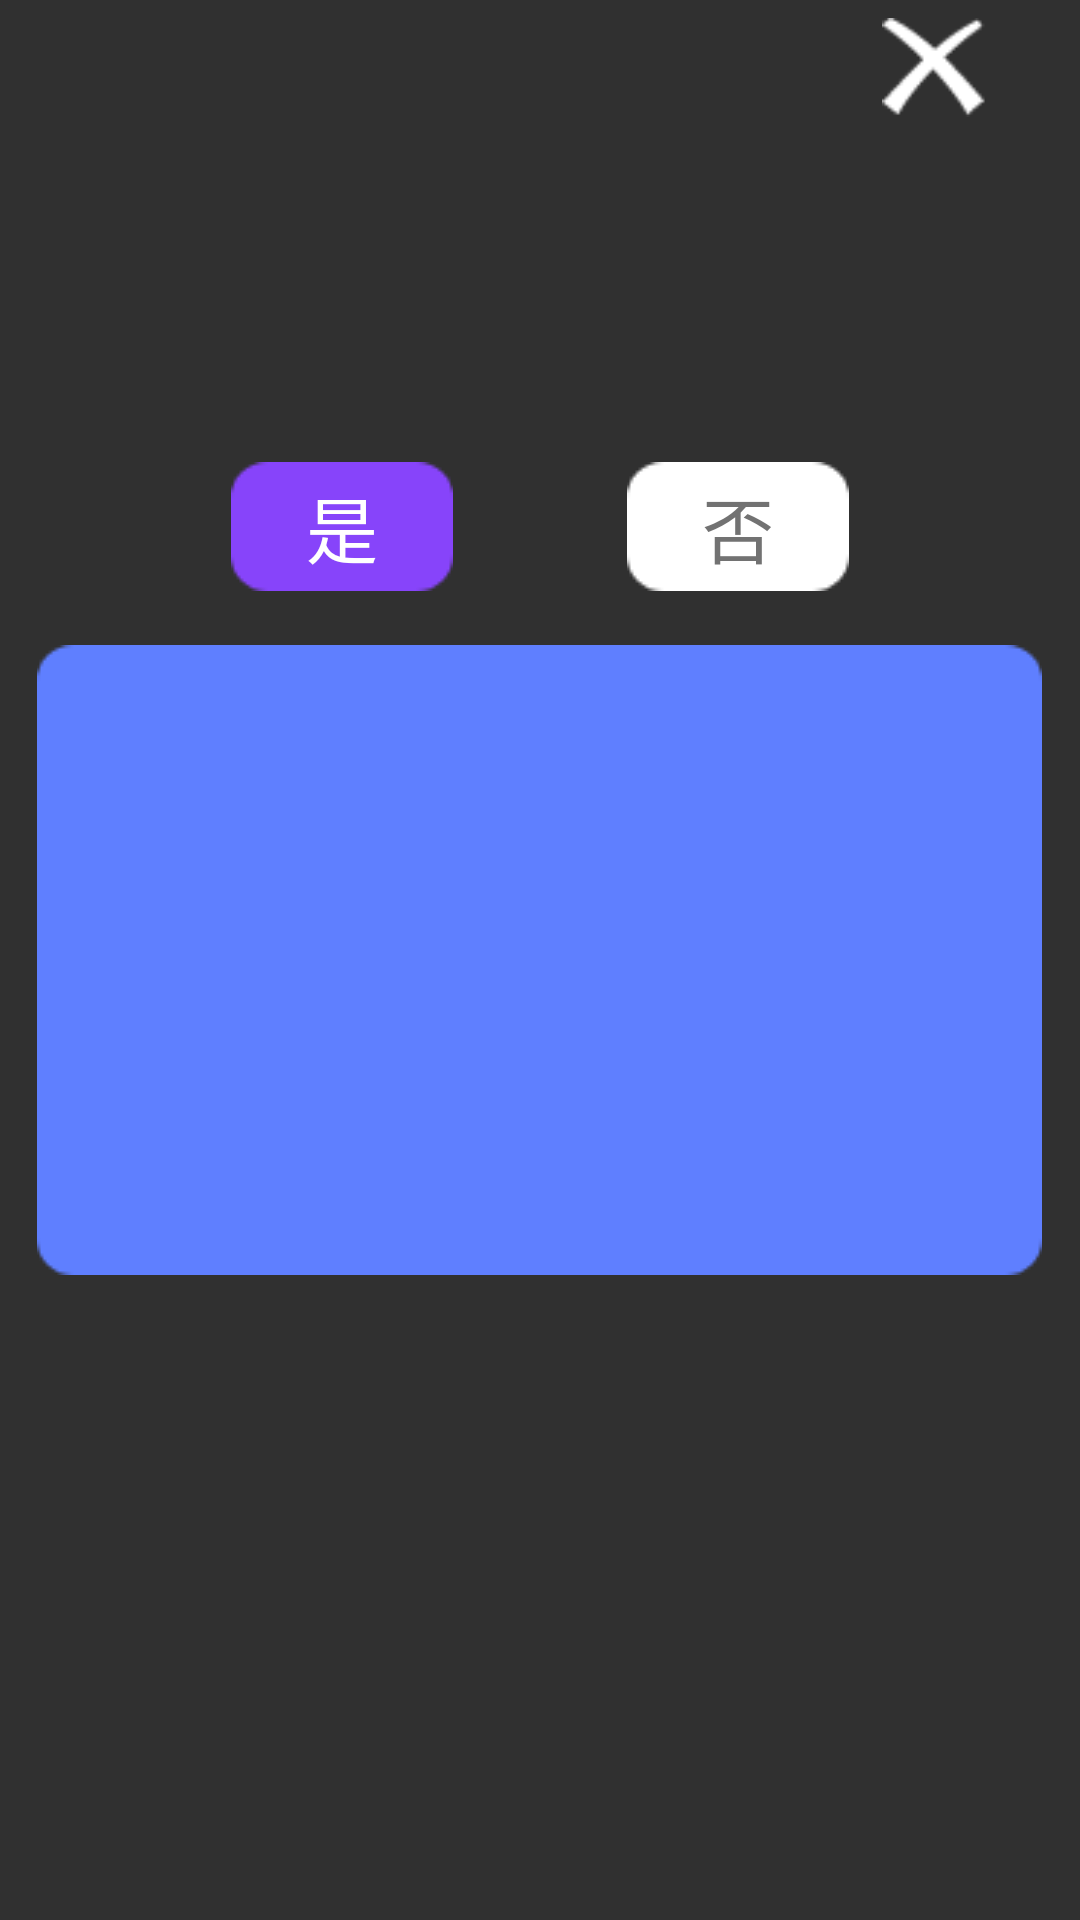

Named icons in this screenshot (1080 x 1920) and their centers, [x,y]:
pay close: [933,66]
